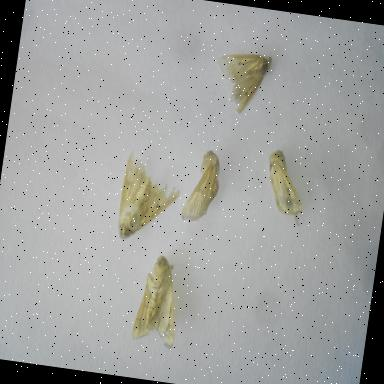abw: (112, 146, 188, 249), (126, 248, 190, 350), (208, 44, 276, 120), (256, 145, 314, 231), (176, 141, 227, 228)
